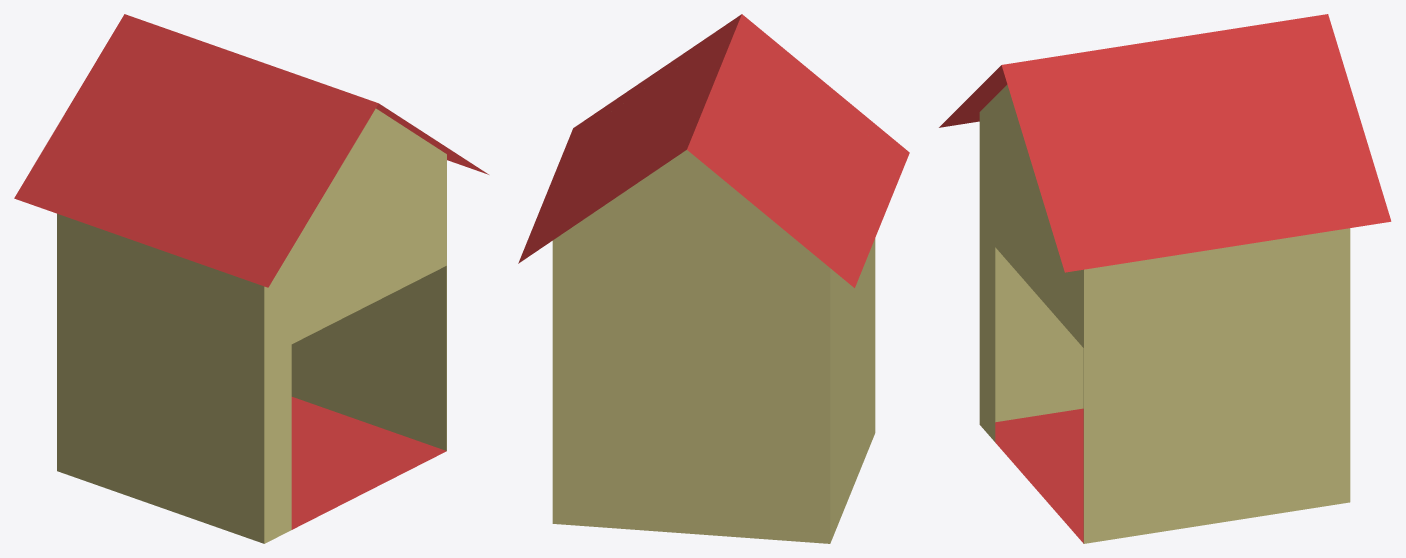
3 views of the same model, side by side, from view 1: azimuth 30°, elevation 25°; view 2: azimuth 150°, elevation 25°; view 3: azimuth 270°, elevation 25° (orthographic). The views are drawn at different scales.
Bounding box in the file's own units: 14.43 × 14.12 × 14.57.
